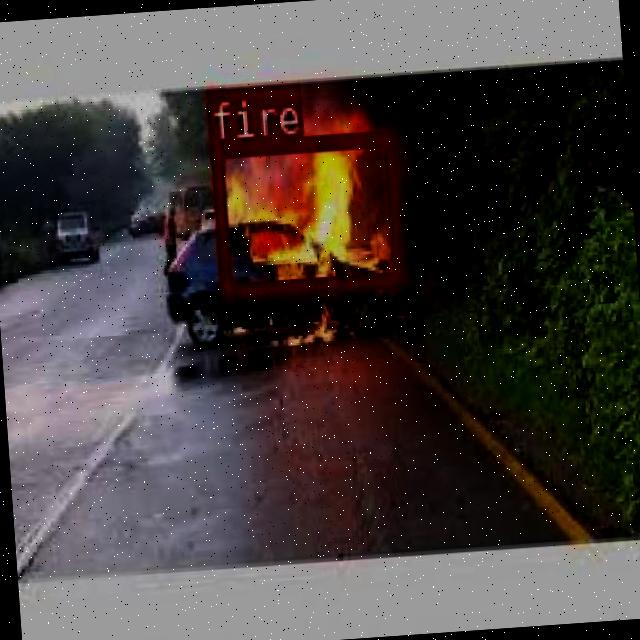fire: (208, 128, 402, 296)
